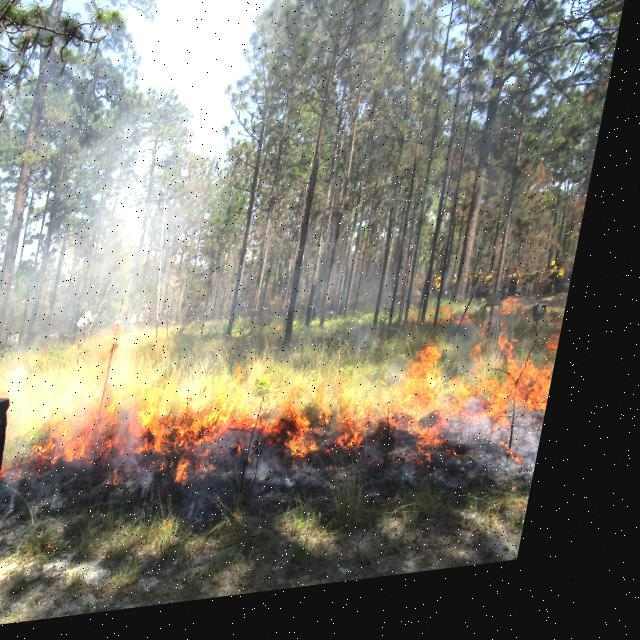Fire: (54, 331, 576, 503)
